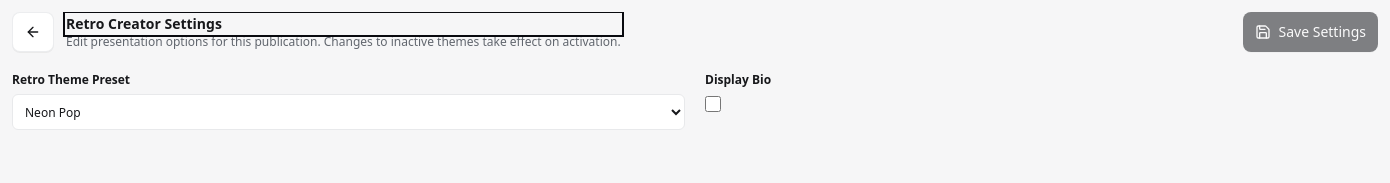
ThemeSettingsEditor › loads saved inactive values and saves edits without activating the theme
The image size is (1390, 183).
Expected: the checkbox labelled "Display Bio" is not checked, x1=705 y1=96 x2=721 y2=112
Select "Sunshine 70s" in the dropdown labelled "Retro Theme Preset" at {"x": 348, "y": 112}, box x1=12 y1=94 x2=685 y2=130
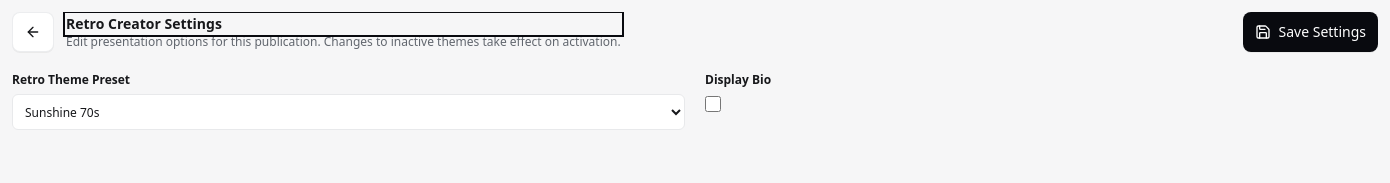
Result: the button "Save Settings" is enabled
Click the button "Save Settings".
click(1310, 32)  # box x1=1242 y1=12 x2=1378 y2=52
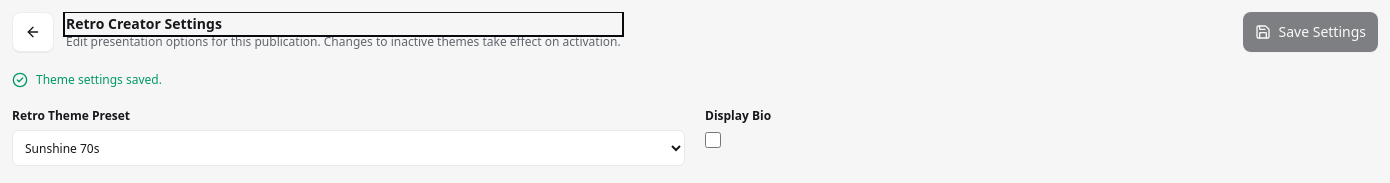
Result: the button "Save Settings" is disabled at x1=1242 y1=12 x2=1378 y2=52
